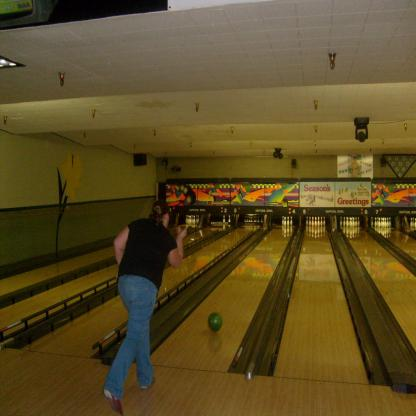Ball: (209, 312, 223, 334)
